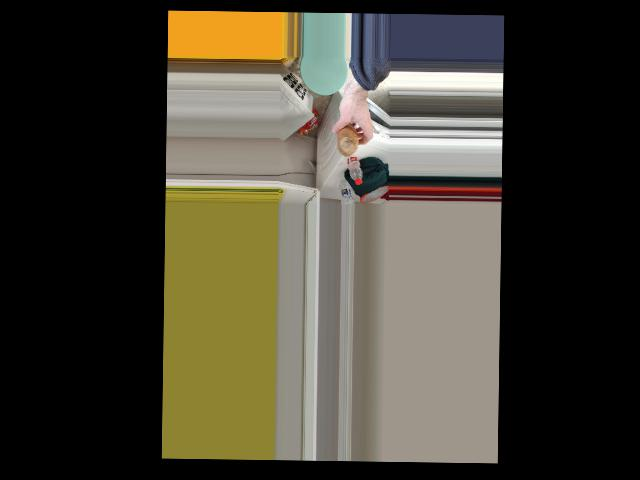sweet_potato: (334, 119, 364, 155)
